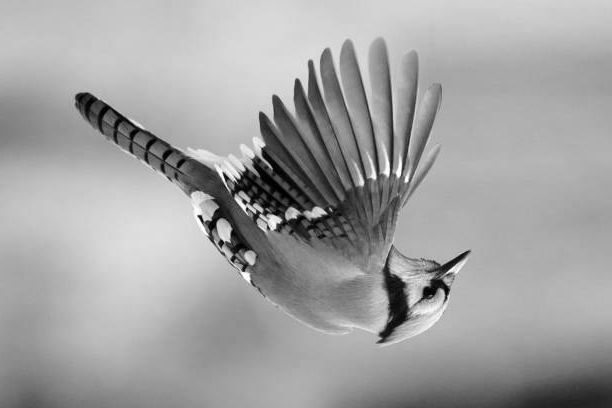Bird: (72, 28, 474, 350)
